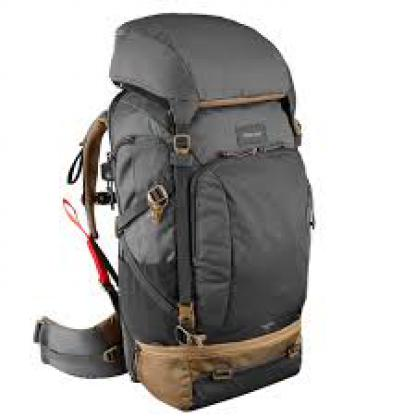morral: (15, 6, 329, 412)
